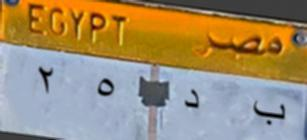2: (34, 64, 58, 98)
5: (90, 72, 118, 103)
baa: (247, 94, 288, 131)
daal: (178, 86, 203, 115)
